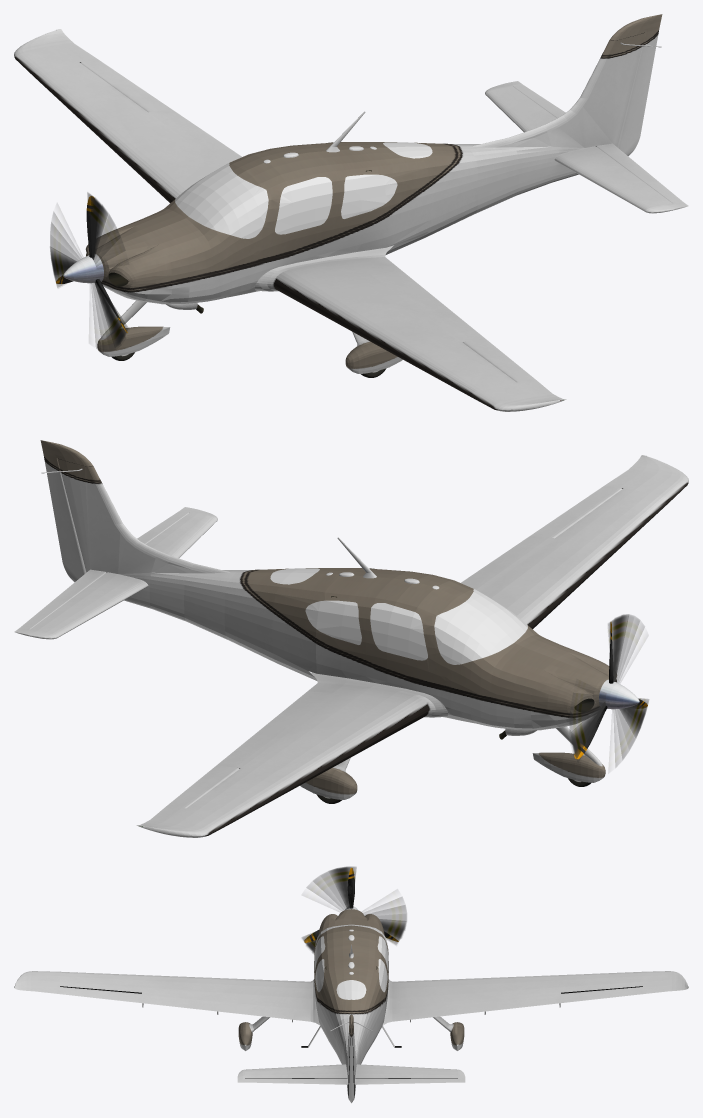
The picture shows the model from 3 angles, top to bottom: view 1: azimuth 30°, elevation 25°; view 2: azimuth 150°, elevation 25°; view 3: azimuth 270°, elevation 25°; orthographic projection. The views are drawn at different scales.
Parts seen in each view (by area): view 1: ACWorld_0; view 2: ACWorld_0; view 3: ACWorld_0.
Boxes of the visible parts, x1,y1,x2,y2 form: ACWorld_0: [14, 14, 688, 411]; ACWorld_0: [14, 440, 688, 837]; ACWorld_0: [14, 866, 688, 1103].
Size of the model in its own units: 7.91 by 2.71 by 11.58.
37 materials, 34 textured.
